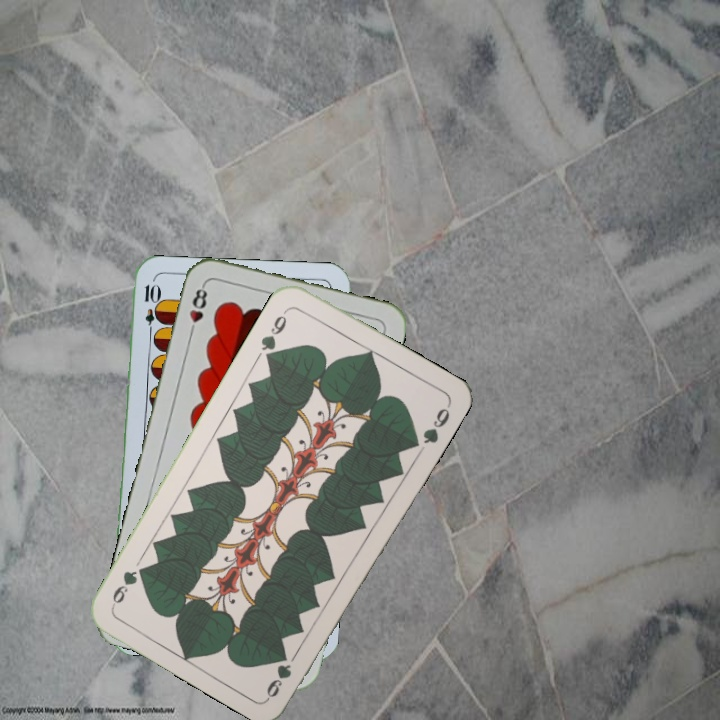E10: (140, 280, 159, 339)
G9: (256, 305, 291, 362), (262, 653, 295, 701)
H8: (185, 280, 210, 339)
